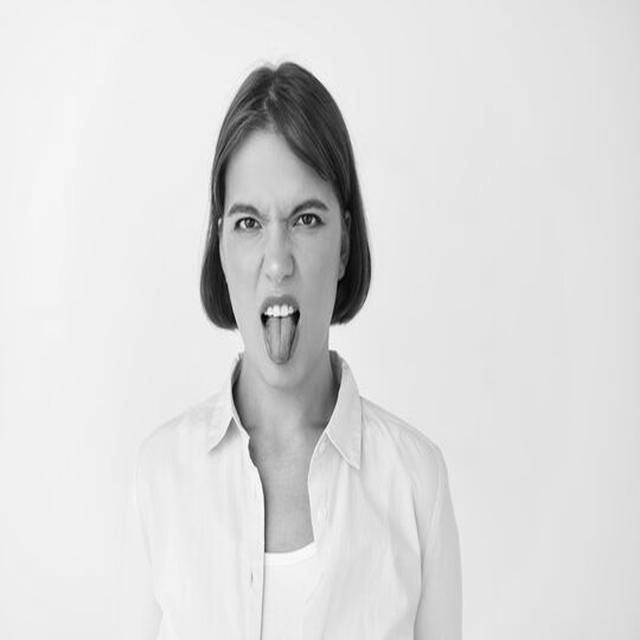Disgust: (218, 128, 342, 391)
